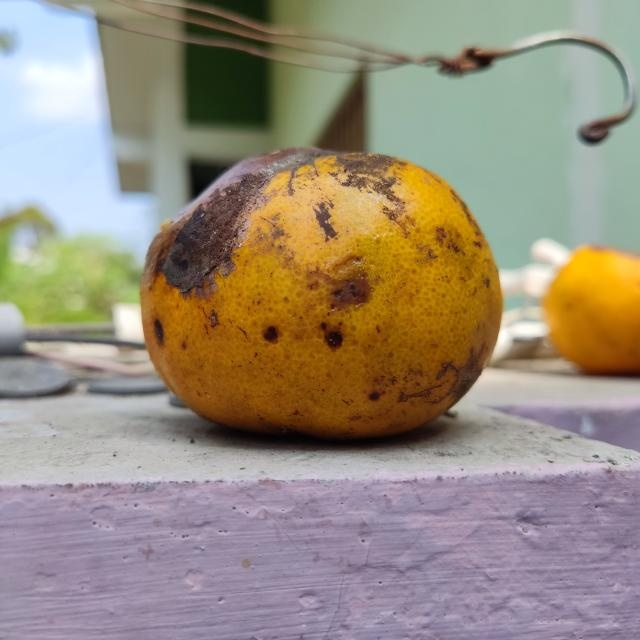agrume: (140, 147, 502, 436)
